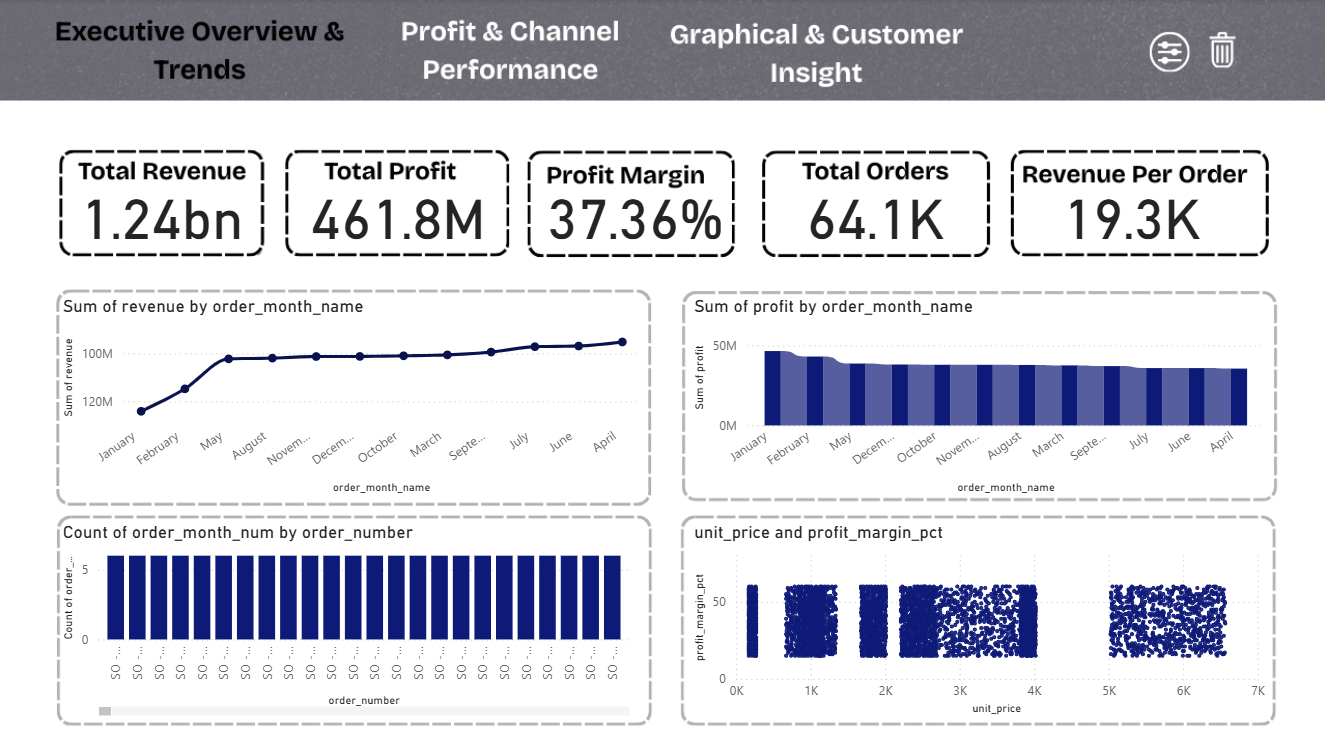

The page's visual inventory and layout, read from the dashboard file:
{"tool":"powerbi","page":{"name":"Overview","canvas":[1280,720],"ordinal":1},"visuals":[{"type":"card","fields":{"Values":["Sum(Sales_data(EDA Exported).revenue)"]},"box":[46.8,159,220.6,93.6],"z":0},{"type":"card","fields":{"Values":["Custom Measures.Profit Margin(%)"]},"box":[504,159,220.6,93.6],"z":1000},{"type":"card","fields":{"Values":["CountNonNull(Sales_data(EDA Exported).order_number)"]},"box":[735.6,159,220.6,93.6],"z":2000},{"type":"lineChart","fields":{"Y":["Sum(Sales_data(EDA Exported).revenue)"],"Category":["Sales_data(EDA Exported).order_month_name"]},"box":[56.7,285.9,567,196.6],"z":3000},{"type":"card","fields":{"Values":["Sum(Sales_data(EDA Exported).profit)"]},"box":[274.8,159,220.6,93.6],"z":4000},{"type":"card","fields":{"Values":["Custom Measures.Revenue per order"]},"box":[983.2,159.3,220.8,94.1],"z":5000},{"type":"ribbonChart","fields":{"Category":["Sales_data(EDA Exported).order_month_name"],"Y":["Sum(Sales_data(EDA Exported).profit)"]},"box":[666,285.9,561,196.6],"z":6000},{"type":"clusteredColumnChart","fields":{"Category":["Sales_data(EDA Exported).order_number"],"Y":["CountNonNull(Sales_data(EDA Exported).order_month_num)"]},"box":[56.7,504.3,557.4,191.8],"z":7000},{"type":"actionButton","box":[384.9,15.7,218.4,71.2],"z":8000},{"type":"actionButton","box":[647.9,15.7,288.3,79.6],"z":9000},{"type":"scatterChart","fields":{"X":["Sales_data(EDA Exported).unit_price"],"Y":["Sales_data(EDA Exported).profit_margin_pct"]},"box":[666,504.3,561,191.8],"z":10000},{"type":"actionButton","box":[1108.7,30.2,41,39.8],"z":11000}]}

Visuals, with their boxes in screenshot pixels (x1, y1, x2, y2), scaled from the page's 1280x720 canvas onto the 1325x744 screenshot:
card - Sum(Sales_data(EDA Exported).revenue): 48/164/277/261
card - Custom Measures.Profit Margin(%): 522/164/750/261
card - CountNonNull(Sales_data(EDA Exported).order_number): 761/164/990/261
lineChart - Sum(Sales_data(EDA Exported).revenue) x Sales_data(EDA Exported).order_month_name: 59/295/646/499
card - Sum(Sales_data(EDA Exported).profit): 284/164/513/261
card - Custom Measures.Revenue per order: 1018/165/1246/262
ribbonChart - Sales_data(EDA Exported).order_month_name x Sum(Sales_data(EDA Exported).profit): 689/295/1270/499
clusteredColumnChart - Sales_data(EDA Exported).order_number x CountNonNull(Sales_data(EDA Exported).order_month_num): 59/521/636/719
actionButton: 398/16/625/90
actionButton: 671/16/969/98
scatterChart - Sales_data(EDA Exported).unit_price x Sales_data(EDA Exported).profit_margin_pct: 689/521/1270/719
actionButton: 1148/31/1190/72
